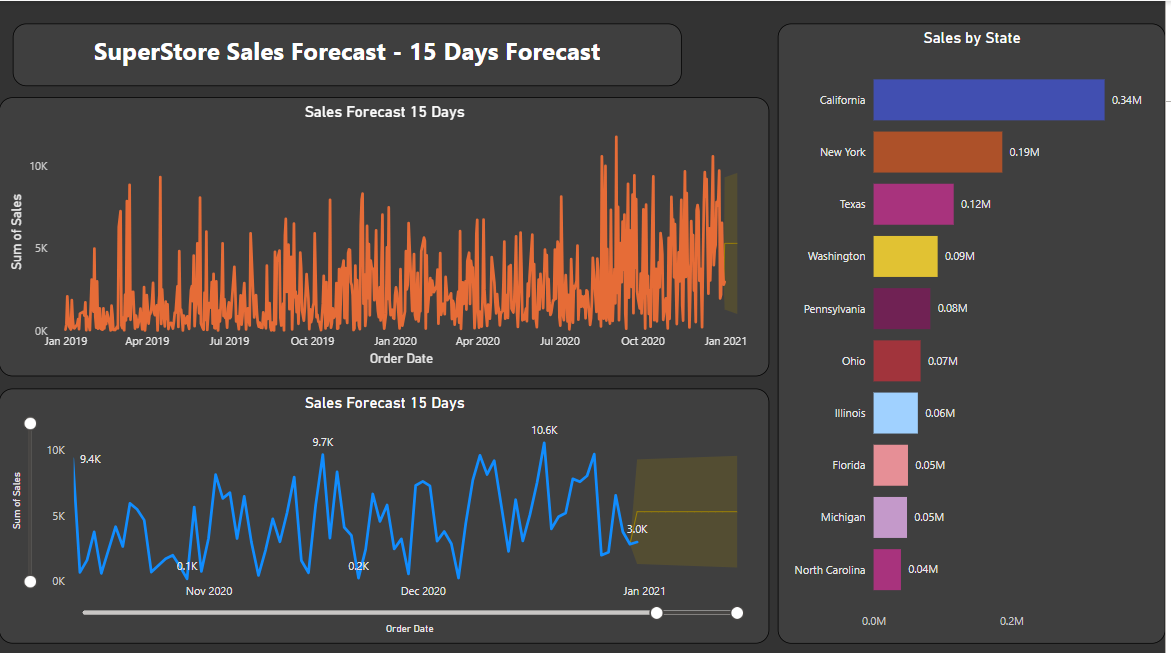

What the dashboard file says about the page in this screenshot:
{"tool":"powerbi","page":{"name":"Page 2","canvas":[1280,720],"ordinal":1},"visuals":[{"type":"lineChart","title":"Sales Forecast 15 Days","fields":{"Y":["Sum(SuperStore_Sales_Dataset.Sales)"],"Category":["SuperStore_Sales_Dataset.Order Date"]},"box":[0,425.4,845.3,279.9],"z":0},{"type":"lineChart","title":"Sales Forecast 15 Days","fields":{"Y":["Sum(SuperStore_Sales_Dataset.Sales)"],"Category":["SuperStore_Sales_Dataset.Order Date"]},"box":[0,105.7,845.3,306],"z":1000},{"type":"clusteredBarChart","title":"Sales by State","fields":{"Category":["SuperStore_Sales_Dataset.State"],"Y":["Sum(SuperStore_Sales_Dataset.Sales)"]},"box":[854.9,24.7,425.4,680.6],"z":2000},{"type":"textbox","box":[15.1,24.7,734.1,68.6],"z":3000}]}

Visuals, with their boxes in screenshot pixels (x1, y1, x2, y2), scaled from the page's 1280x720 canvas onto the 1171x653 screenshot:
"Sales Forecast 15 Days" lineChart: 0:386:773:640
"Sales Forecast 15 Days" lineChart: 0:96:773:373
"Sales by State" clusteredBarChart: 782:22:1170:640
textbox: 14:22:685:85
